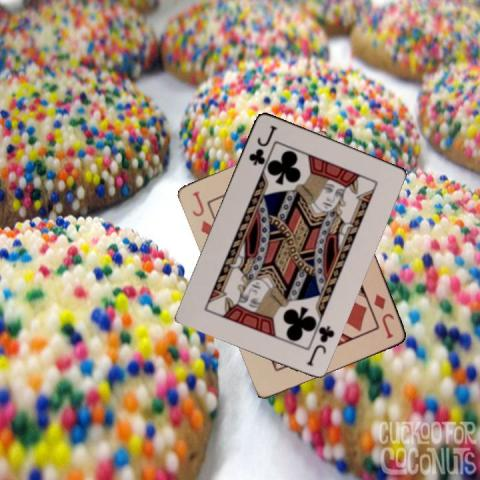Jc: (246, 121, 278, 166), (304, 322, 336, 367)
Jd: (189, 188, 215, 239), (371, 290, 396, 341)
